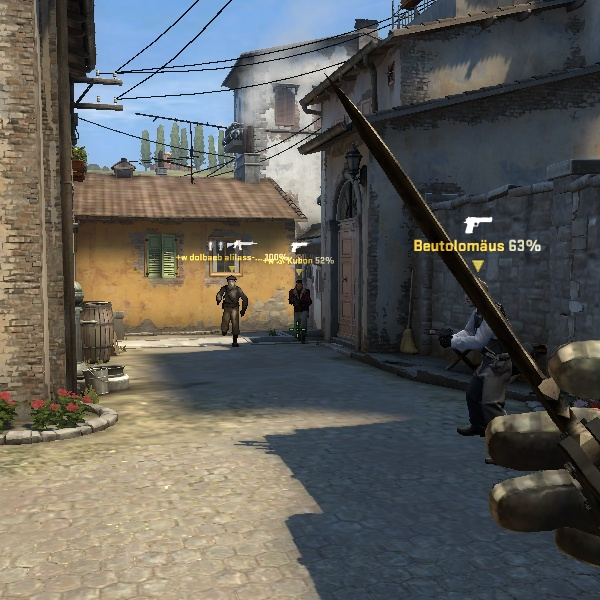t_body: (210, 274, 249, 344), (282, 273, 319, 342)
t_head: (223, 276, 237, 291)
